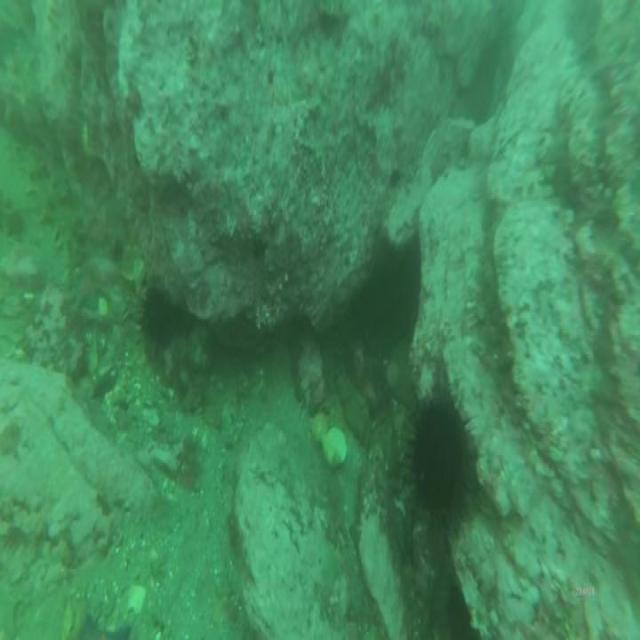echinus: (401, 378, 475, 528), (137, 276, 183, 356)
